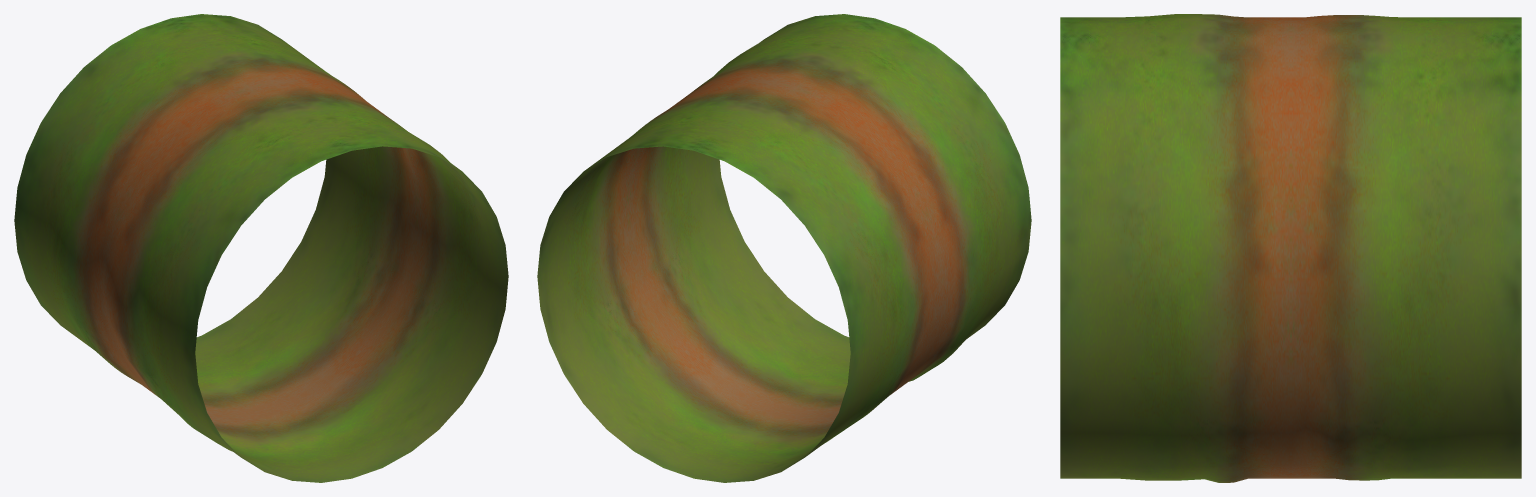
Rendered from road.glb.
3 renders of one model, left to right at view 1: azimuth 30°, elevation 25°; view 2: azimuth 150°, elevation 25°; view 3: azimuth 270°, elevation 25°, orthographic. The views are drawn at different scales.
Visible parts, largest first — view 1: Cylinder; view 2: Cylinder; view 3: Cylinder.
Part boxes in pixels (box(x1,y1,x2,y2)): Cylinder: box(14, 14, 508, 482); Cylinder: box(537, 14, 1031, 482); Cylinder: box(1060, 14, 1521, 482).
Size of the model in its own units: 2.03 by 2.03 by 2.
Materials: 1 (1 with a texture image).
